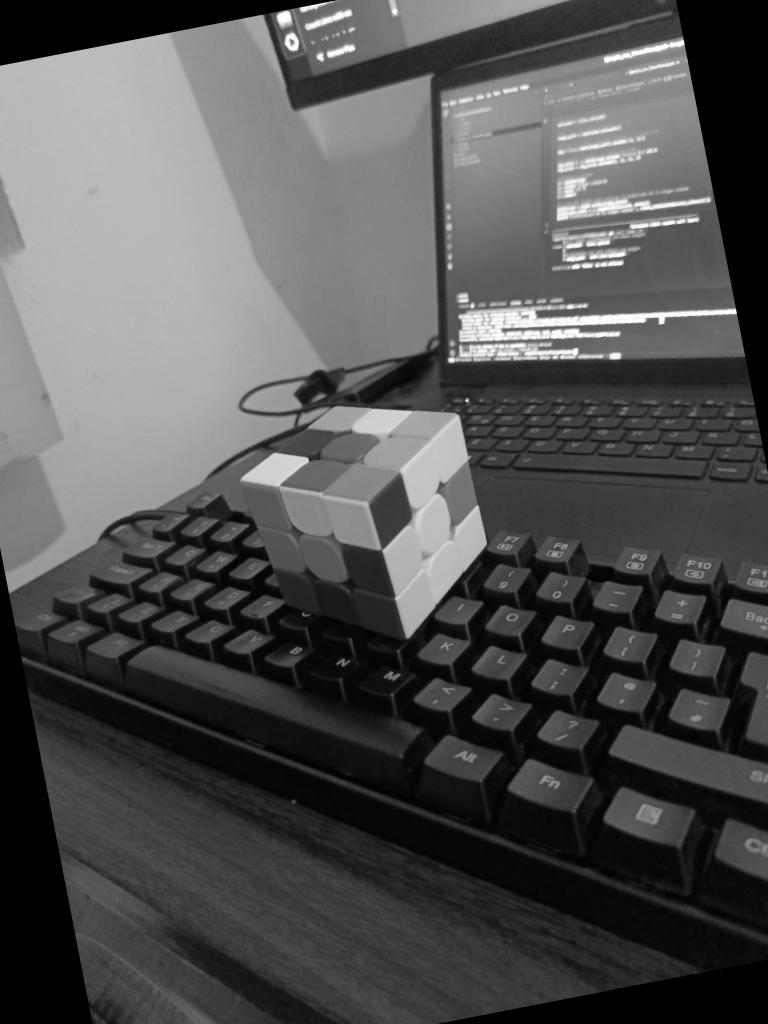rubik: (226, 377, 505, 664)
